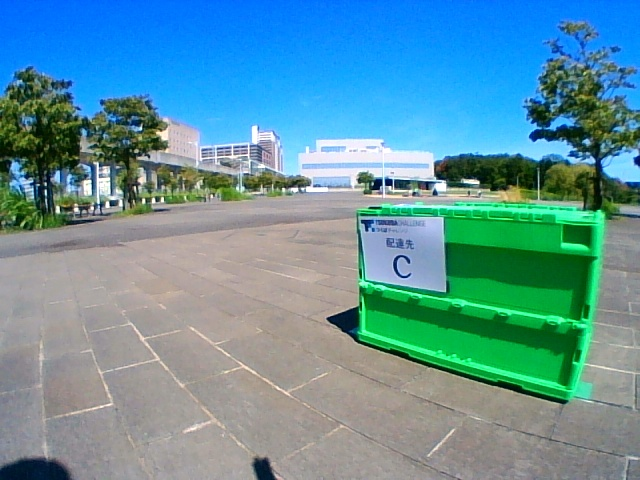green_box: (356, 202, 604, 399)
tag_c: (365, 217, 444, 280)
